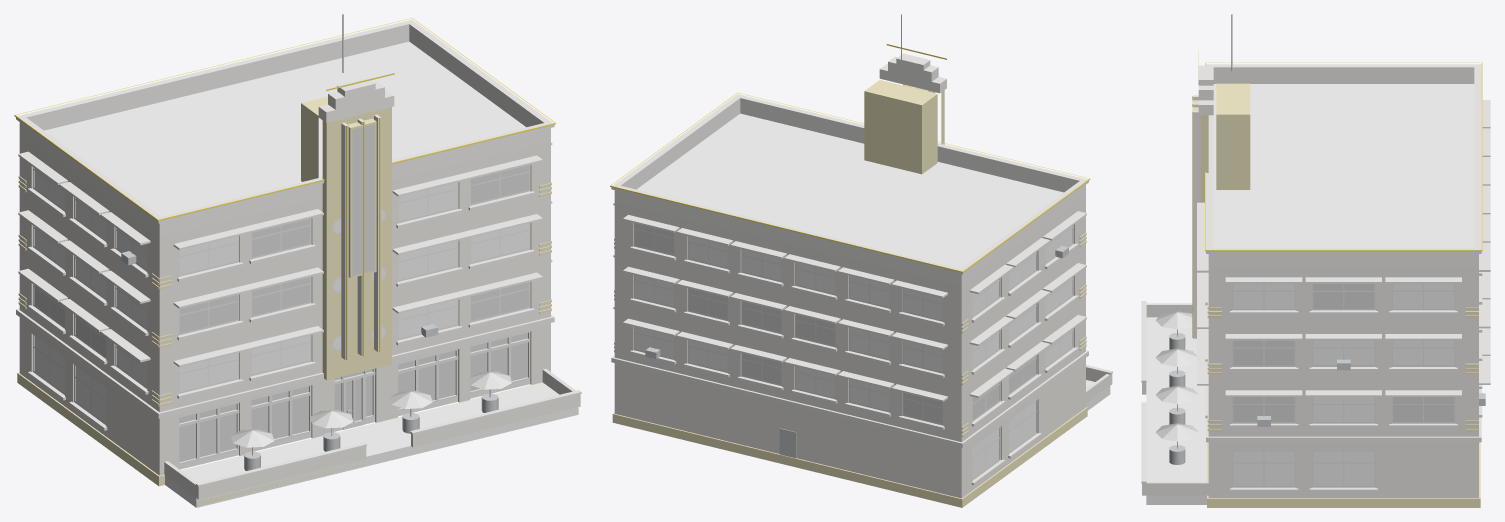
Rendered from deco_w84f3.glb.
The picture shows the model from 3 angles, left to right: view 1: azimuth 30°, elevation 25°; view 2: azimuth 150°, elevation 25°; view 3: azimuth 270°, elevation 25°; orthographic projection. The views are drawn at different scales.
Parts seen in each view (by area): view 1: deco_w84f3_Walls, deco_w84f3_Trim, deco_w84f3_Roof, deco_w84f3_Glass, deco_w84f3_WindowsLit, deco_w84f3_Accent, deco_w84f3_Frames, deco_w84f3_Walls2, deco_w84f3_Neon, deco_w84f3_Brand, deco_w84f3_Awning, deco_w84f3_Details; view 2: deco_w84f3_Walls, deco_w84f3_Trim, deco_w84f3_Roof, deco_w84f3_Glass, deco_w84f3_Accent, deco_w84f3_Frames, deco_w84f3_WindowsLit, deco_w84f3_Neon, deco_w84f3_Details; view 3: deco_w84f3_Roof, deco_w84f3_Walls, deco_w84f3_Trim, deco_w84f3_Glass, deco_w84f3_Accent, deco_w84f3_Walls2, deco_w84f3_WindowsLit, deco_w84f3_Frames, deco_w84f3_Awning, deco_w84f3_Details, deco_w84f3_Neon.
Boxes of the visible parts, x1=… form: deco_w84f3_Walls: x1=19, y1=135, x2=580, y2=499; deco_w84f3_Trim: x1=16, y1=20, x2=581, y2=487; deco_w84f3_Roof: x1=44, y1=41, x2=525, y2=216; deco_w84f3_Glass: x1=34, y1=168, x2=529, y2=423; deco_w84f3_WindowsLit: x1=34, y1=165, x2=529, y2=462; deco_w84f3_Accent: x1=17, y1=96, x2=571, y2=506; deco_w84f3_Frames: x1=33, y1=164, x2=530, y2=464; deco_w84f3_Walls2: x1=165, y1=382, x2=578, y2=507; deco_w84f3_Neon: x1=14, y1=18, x2=555, y2=359; deco_w84f3_Brand: x1=352, y1=124, x2=374, y2=275; deco_w84f3_Awning: x1=231, y1=371, x2=511, y2=447; deco_w84f3_Details: x1=121, y1=14, x2=498, y2=470; deco_w84f3_Walls: x1=614, y1=196, x2=1112, y2=498; deco_w84f3_Trim: x1=611, y1=53, x2=1112, y2=485; deco_w84f3_Roof: x1=637, y1=113, x2=1063, y2=268; deco_w84f3_Glass: x1=635, y1=226, x2=1072, y2=478; deco_w84f3_Accent: x1=612, y1=80, x2=1087, y2=507; deco_w84f3_Frames: x1=634, y1=223, x2=1073, y2=480; deco_w84f3_WindowsLit: x1=635, y1=223, x2=1035, y2=423; deco_w84f3_Neon: x1=610, y1=44, x2=1090, y2=272; deco_w84f3_Details: x1=645, y1=14, x2=1068, y2=458; deco_w84f3_Roof: x1=1213, y1=84, x2=1474, y2=247; deco_w84f3_Walls: x1=1142, y1=267, x2=1478, y2=497; deco_w84f3_Trim: x1=1141, y1=64, x2=1490, y2=491; deco_w84f3_Glass: x1=1233, y1=284, x2=1454, y2=485; deco_w84f3_Accent: x1=1192, y1=83, x2=1480, y2=507; deco_w84f3_Walls2: x1=1146, y1=317, x2=1206, y2=504; deco_w84f3_WindowsLit: x1=1233, y1=284, x2=1454, y2=421; deco_w84f3_Frames: x1=1232, y1=284, x2=1455, y2=487; deco_w84f3_Awning: x1=1155, y1=311, x2=1198, y2=441; deco_w84f3_Details: x1=1169, y1=14, x2=1485, y2=464; deco_w84f3_Neon: x1=1192, y1=51, x2=1482, y2=337.
Bounding box in the file's own units: 88.4 × 85 × 67.1.
